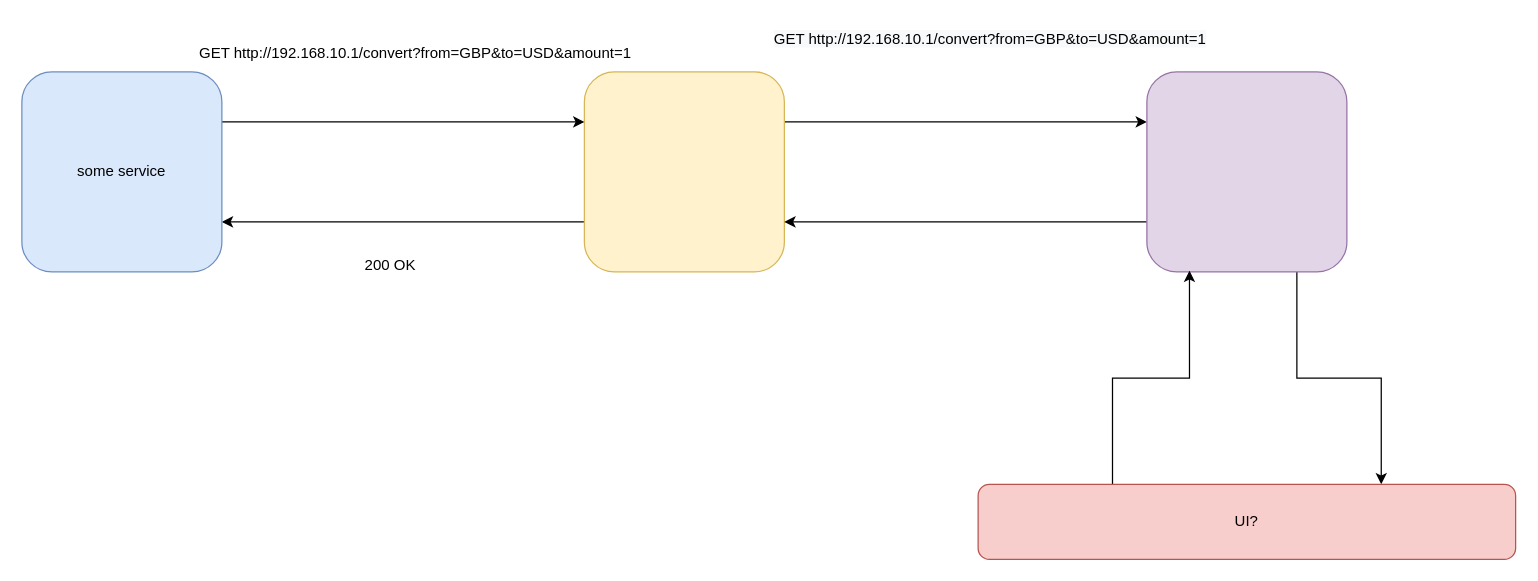
This 1538x581 diagram has some shape labels left out. Here are the shapes that lost their labels. From the top down, the centre of each, then its label:
At pixel 683 171: "fxconvert".
At pixel 1246 171: "fxdata".
